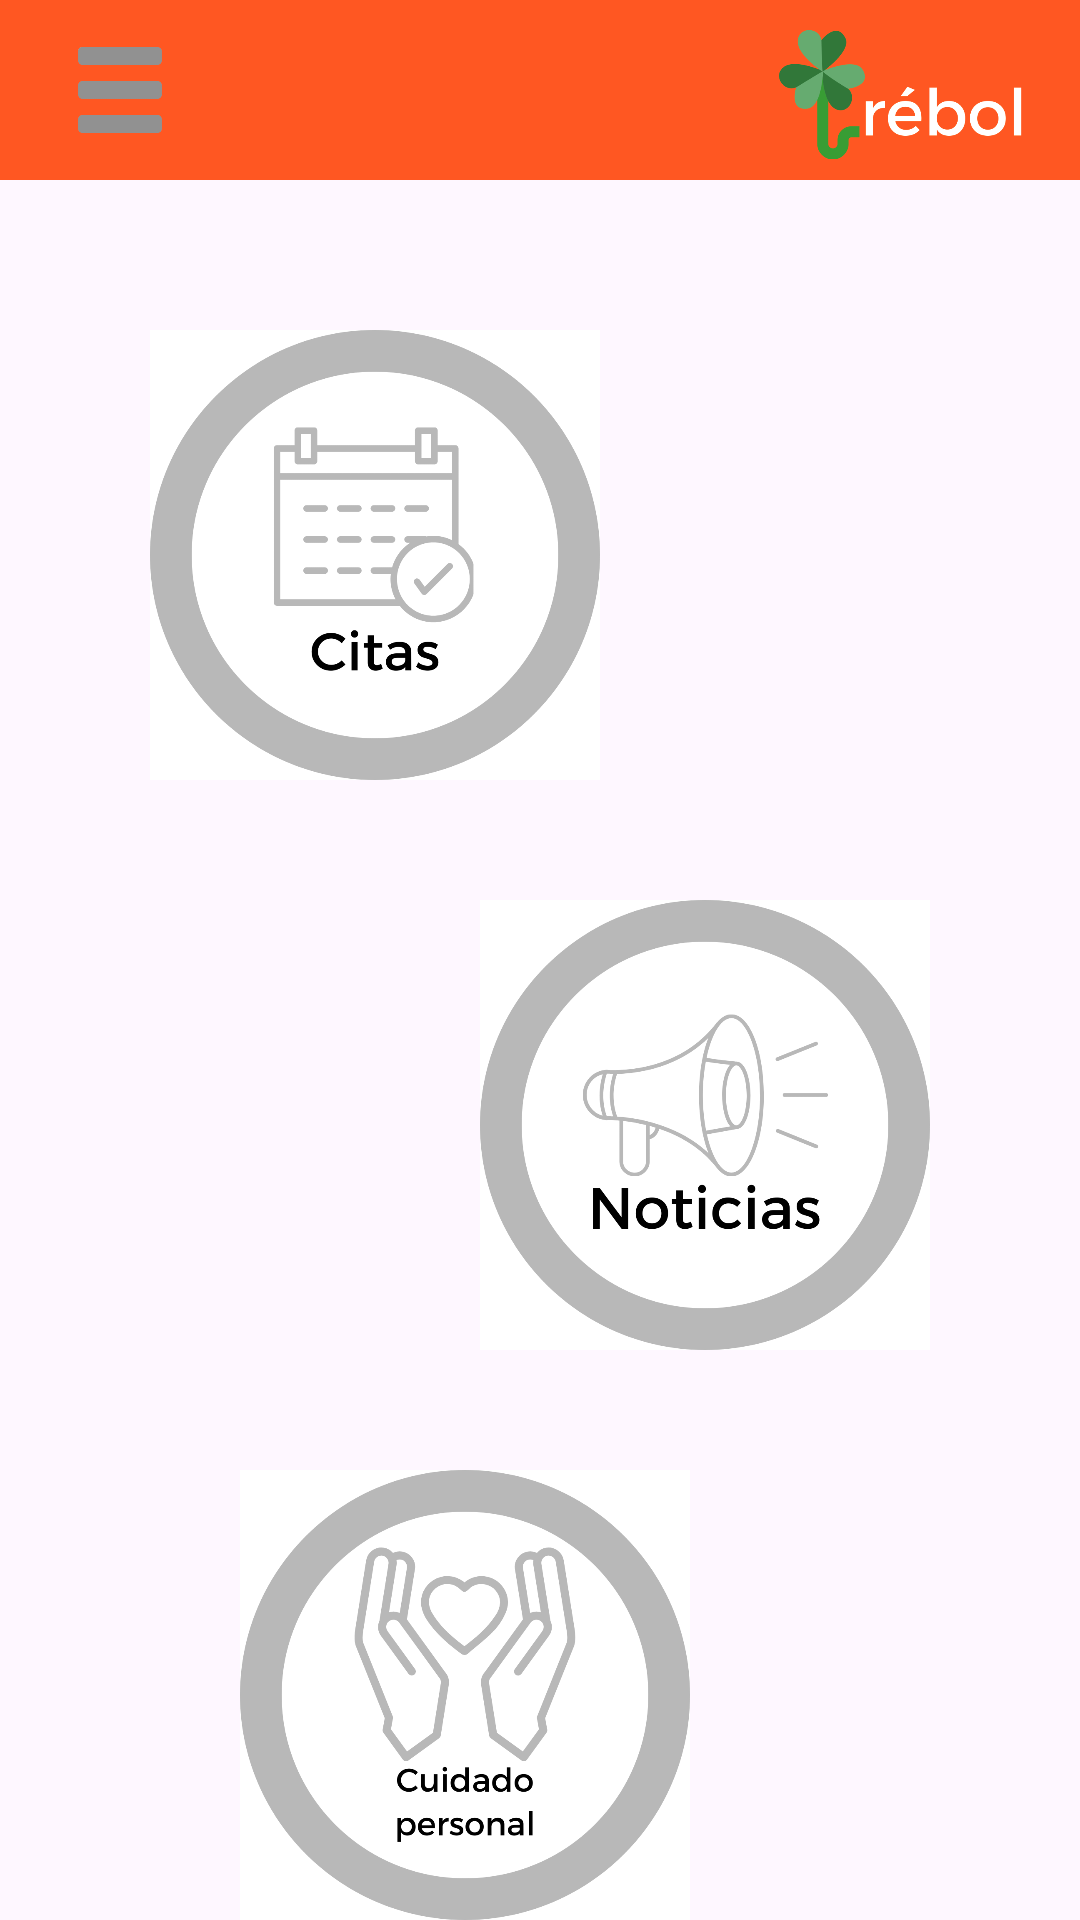

Locate icon controls on the screen. Image size 1080px×1920px, boxes as Rect(x1, y1, x2, y2).
btnmenu: Rect(78, 47, 162, 133)
